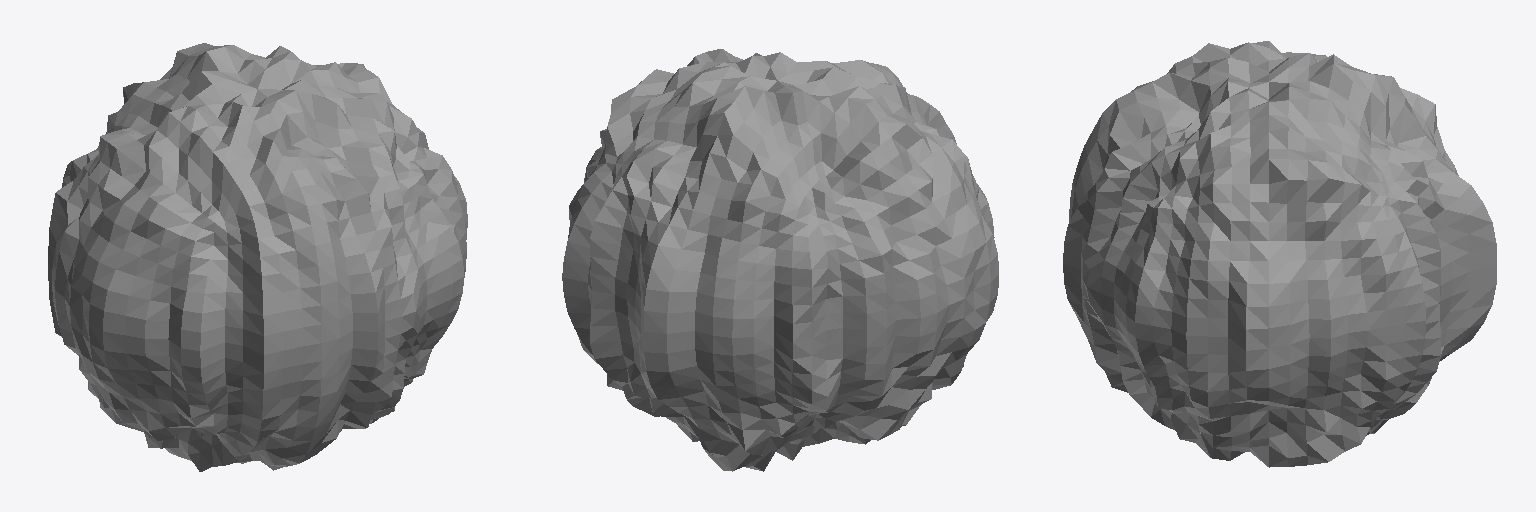
Rendered from asteroid55.obj.
The picture shows the model from 3 angles: view 1: azimuth 30°, elevation 25°; view 2: azimuth 150°, elevation 25°; view 3: azimuth 270°, elevation 25°; orthographic projection.
Parts seen in each view (by area): view 1: Cube_Cube.002; view 2: Cube_Cube.002; view 3: Cube_Cube.002.
Boxes of the visible parts, x1,y1,x2,y2 form: Cube_Cube.002: [48, 43, 467, 471]; Cube_Cube.002: [562, 49, 998, 471]; Cube_Cube.002: [1063, 41, 1496, 467].
Size of the model in its own units: 1.9 by 1.77 by 1.83.